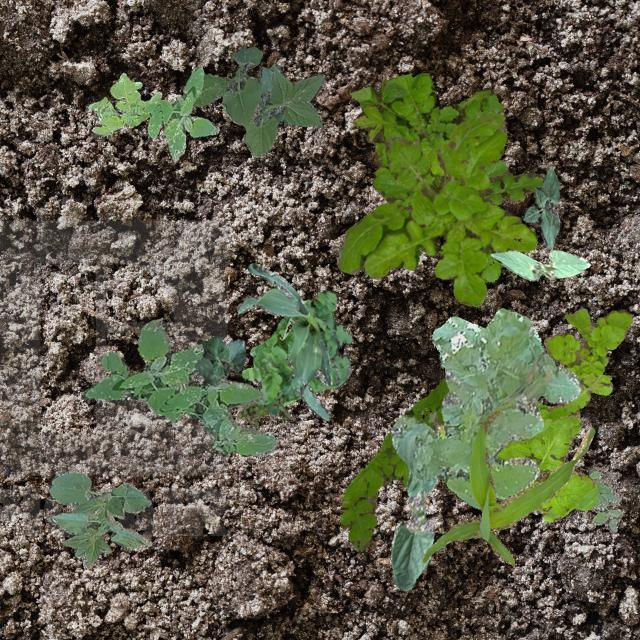crop: (421, 402, 594, 564), (236, 262, 332, 420), (48, 470, 150, 568), (389, 471, 436, 588), (489, 248, 588, 280), (522, 165, 558, 248), (193, 334, 244, 386)
weed: (348, 71, 542, 282), (336, 110, 536, 306), (390, 306, 580, 508), (82, 316, 276, 454), (432, 372, 612, 520), (338, 376, 448, 550), (192, 46, 324, 156), (240, 290, 350, 414), (144, 66, 218, 160), (544, 308, 630, 376), (88, 72, 160, 134), (588, 471, 622, 534), (237, 396, 290, 426)
